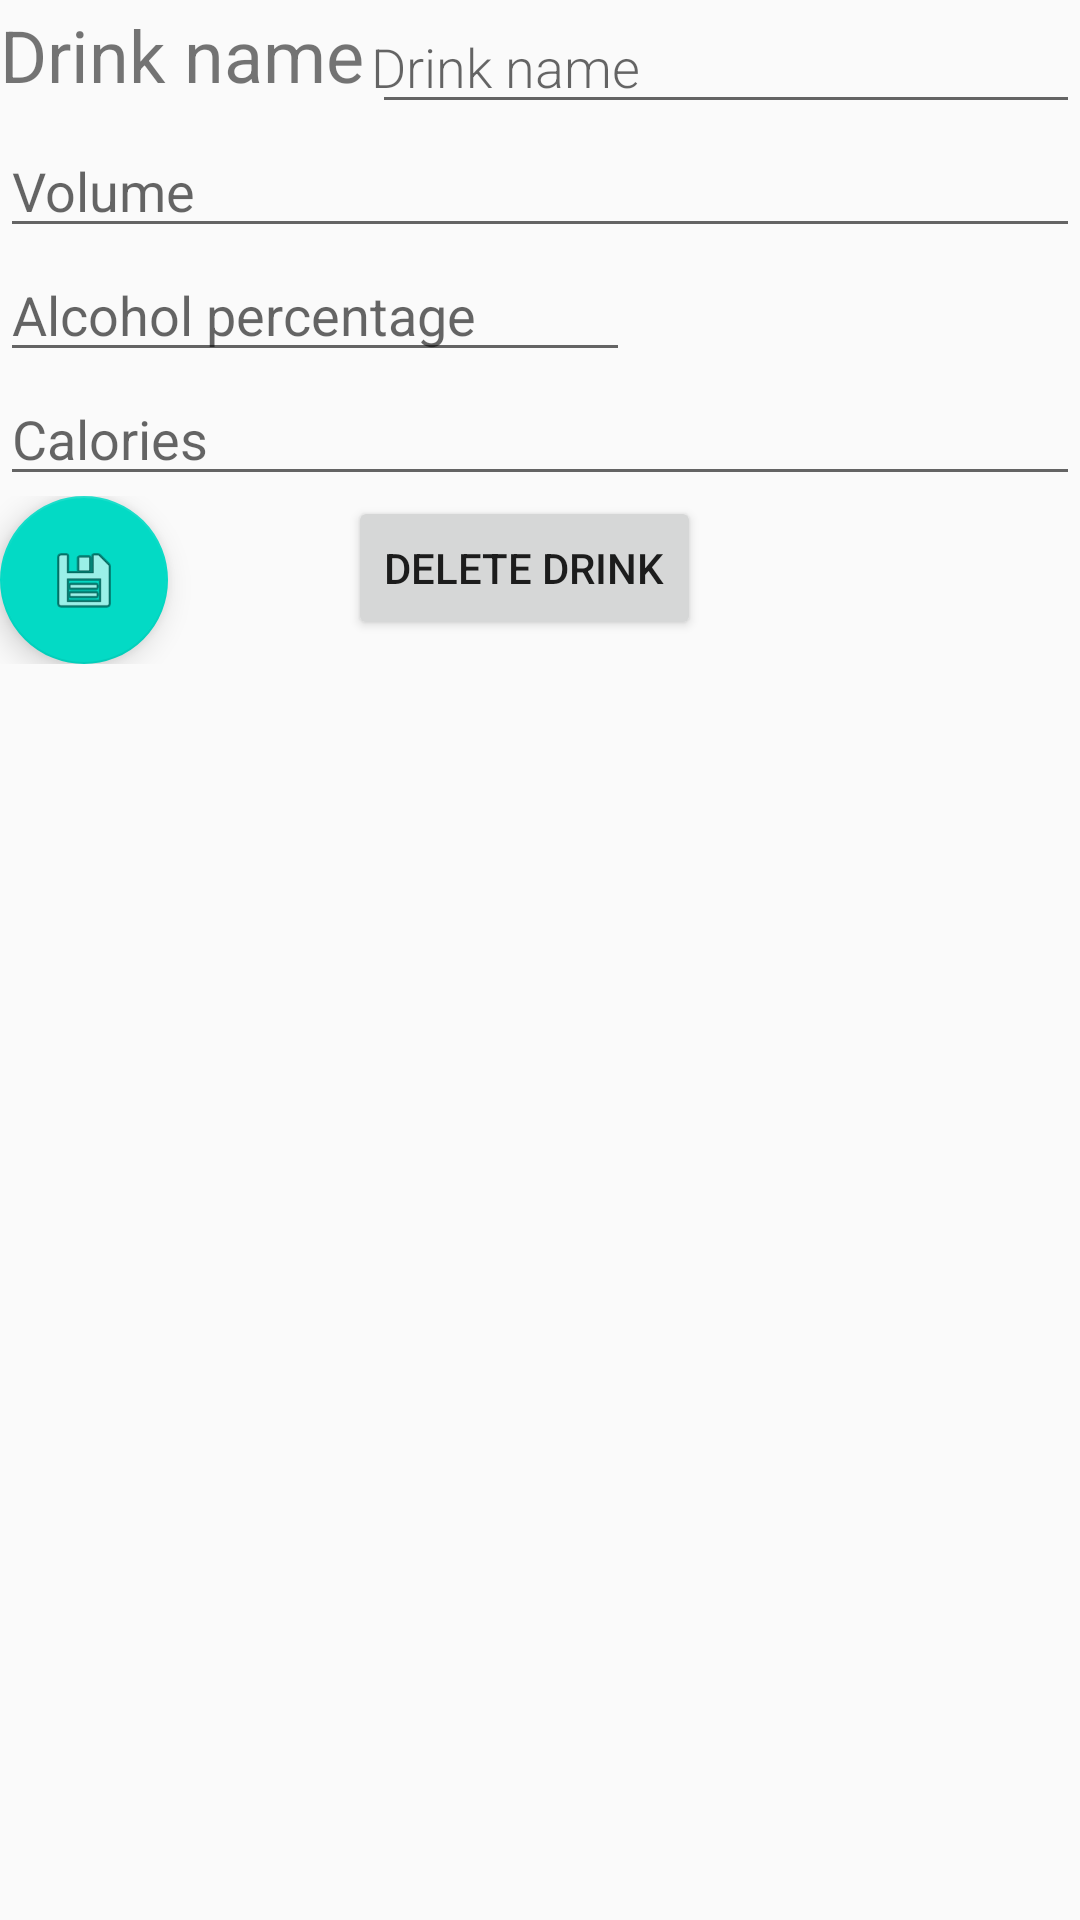

Where icons sit on this 1080*1920 app screen, as (x1, y1, x2, y2):
save: (0, 496, 168, 664)
